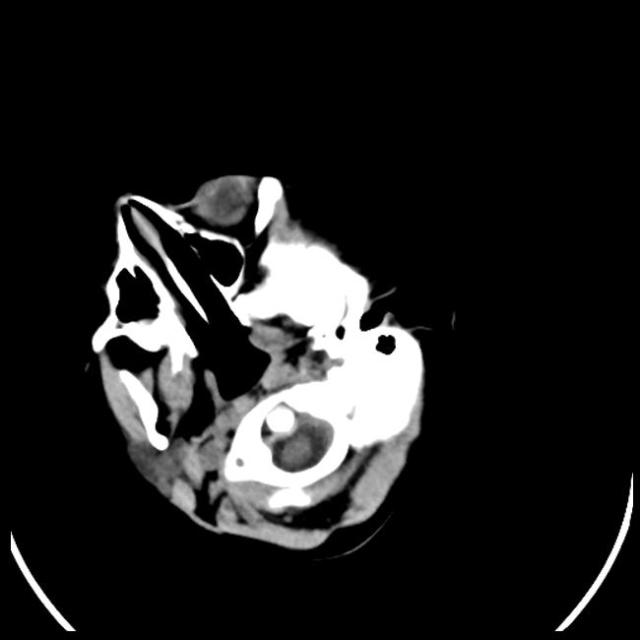lesion: (84, 168, 435, 556)
